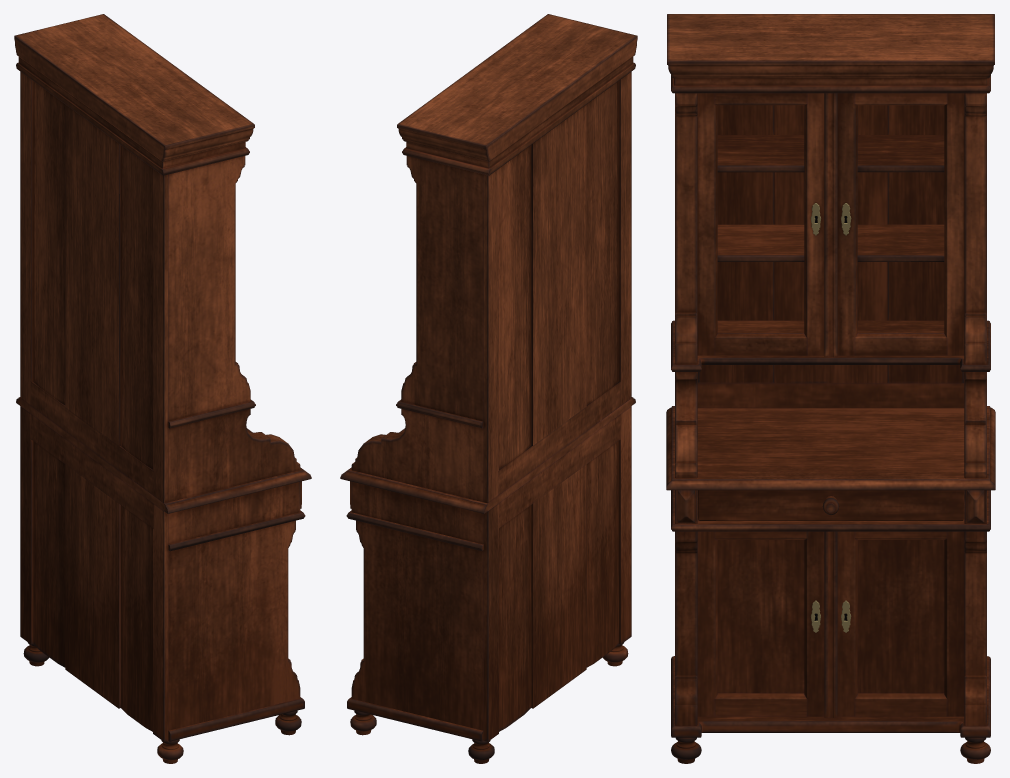
The model's file is mueble.glb.
3 renders of one model, left to right at view 1: azimuth 30°, elevation 25°; view 2: azimuth 150°, elevation 25°; view 3: azimuth 270°, elevation 25°, orthographic. The views are drawn at different scales.
Parts seen in each view (by area): view 1: angtiqueWardrobe_wood_0; view 2: angtiqueWardrobe_wood_0; view 3: angtiqueWardrobe_wood_0.
Part boxes in pixels (x1=…): angtiqueWardrobe_wood_0: x1=14, y1=14, x2=311, y2=763; angtiqueWardrobe_wood_0: x1=340, y1=14, x2=637, y2=763; angtiqueWardrobe_wood_0: x1=666, y1=14, x2=995, y2=763.
Size of the model in its own units: 0.815 by 3.32 by 1.47.
1 material, 1 textured.
